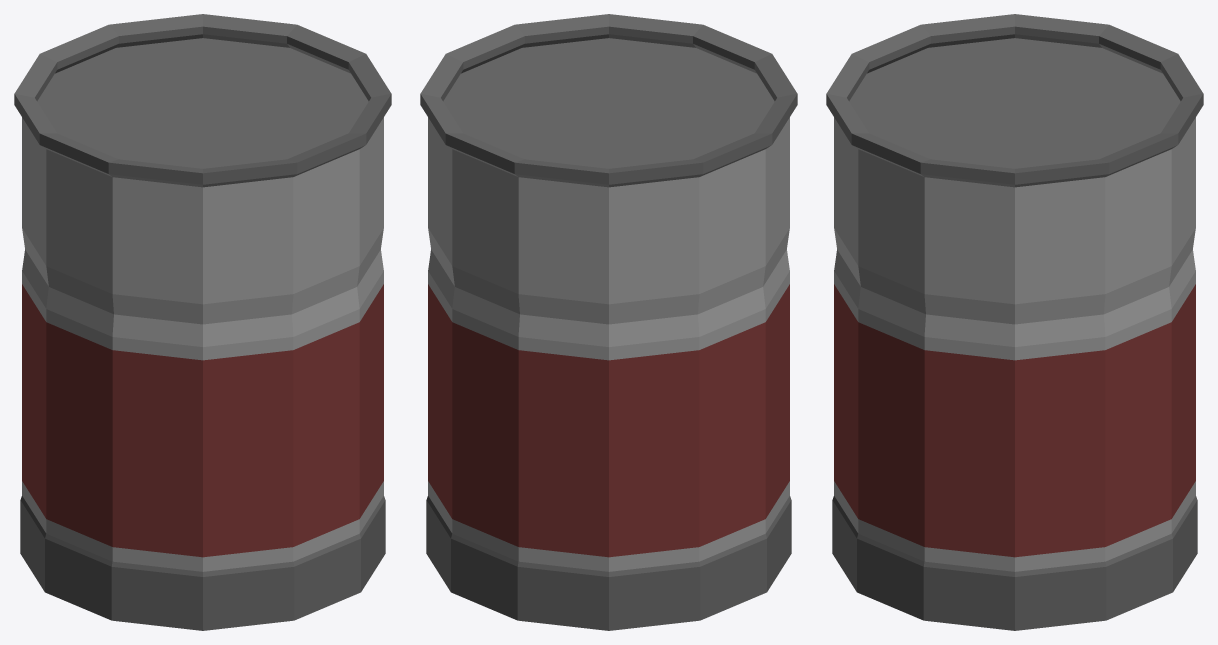
The model's file is can_red.glb.
The picture shows the model from 3 angles, left to right: view 1: azimuth 30°, elevation 25°; view 2: azimuth 150°, elevation 25°; view 3: azimuth 270°, elevation 25°; orthographic projection.
Visible parts, largest first — view 1: Can_Red; view 2: Can_Red; view 3: Can_Red.
Part boxes in pixels (x1,y1,x2,y2): Can_Red: (14,14,391,630); Can_Red: (420,14,797,630); Can_Red: (826,14,1203,630).
Bounding box in the file's own units: 0.4733 × 0.6375 × 0.4733.
